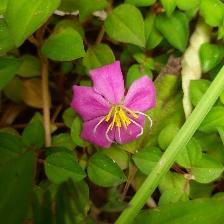malabar melastome: (70, 61, 160, 153)
